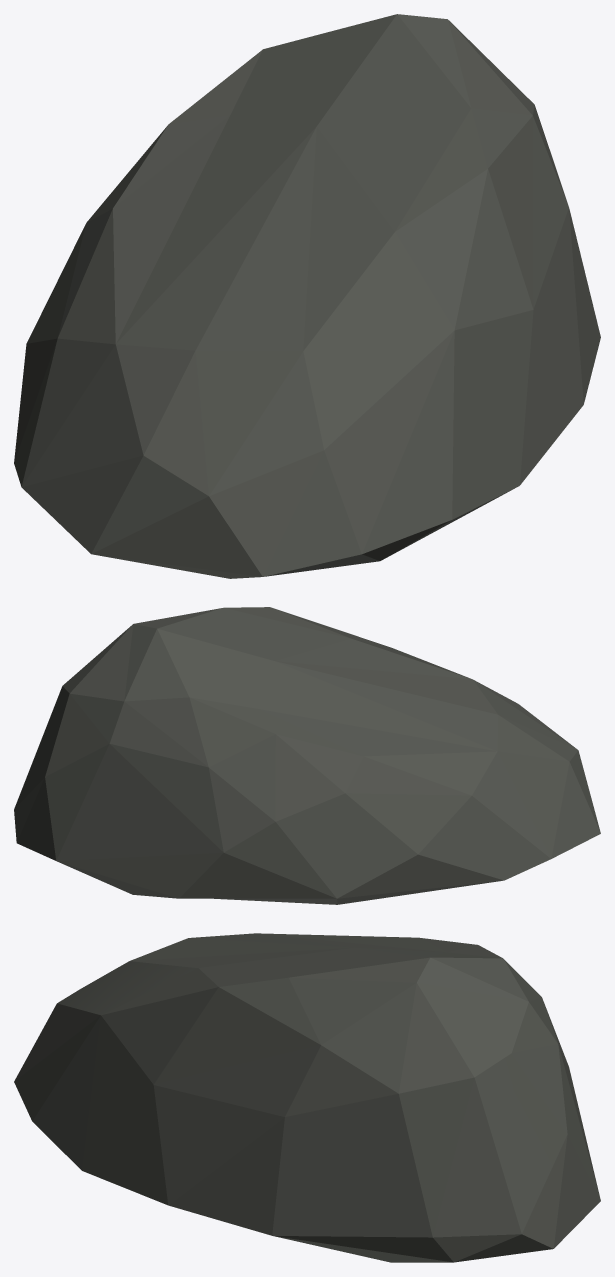
File: S_Rock_03.fbx
The picture shows the model from 3 angles, top to bottom: view 1: azimuth 30°, elevation 25°; view 2: azimuth 150°, elevation 25°; view 3: azimuth 270°, elevation 25°; orthographic projection. The views are drawn at different scales.
Parts seen in each view (by area): view 1: S_Rock_03; view 2: S_Rock_03; view 3: S_Rock_03.
Part boxes in pixels (bbox=[...]): S_Rock_03: bbox=[14, 14, 600, 578]; S_Rock_03: bbox=[14, 607, 600, 904]; S_Rock_03: bbox=[14, 933, 600, 1262].
Bounding box in the file's own units: 139 × 70.59 × 133.
Materials: 1 (1 with a texture image).
